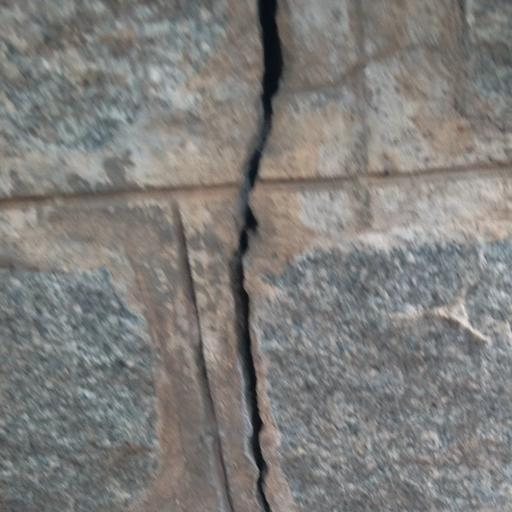major_crack: (214, 0, 318, 512)
